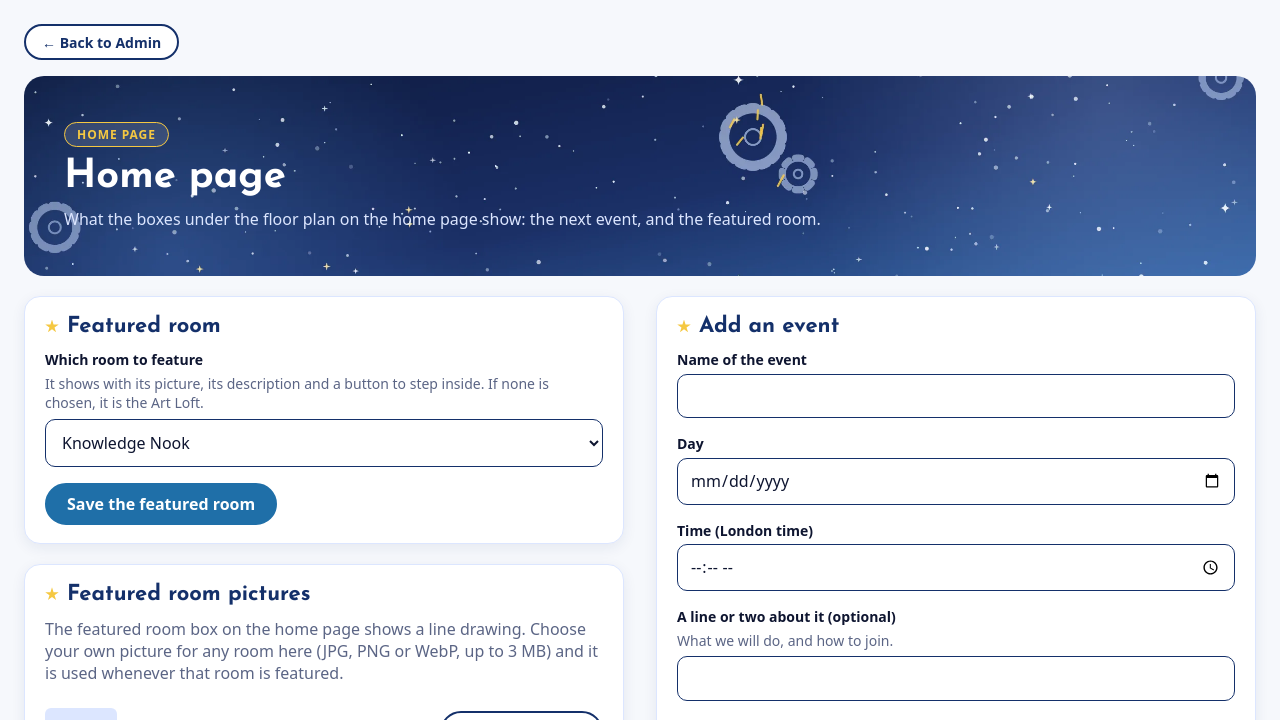
Scenario: saves the featured room, starting from the one now chosen
The width and height of the screenshot is (1280, 720).
Select "Explorer's Bay" in the dropdown labelled "Which room to feature". click: coordinates (324, 443)
box: [45, 419, 603, 467]
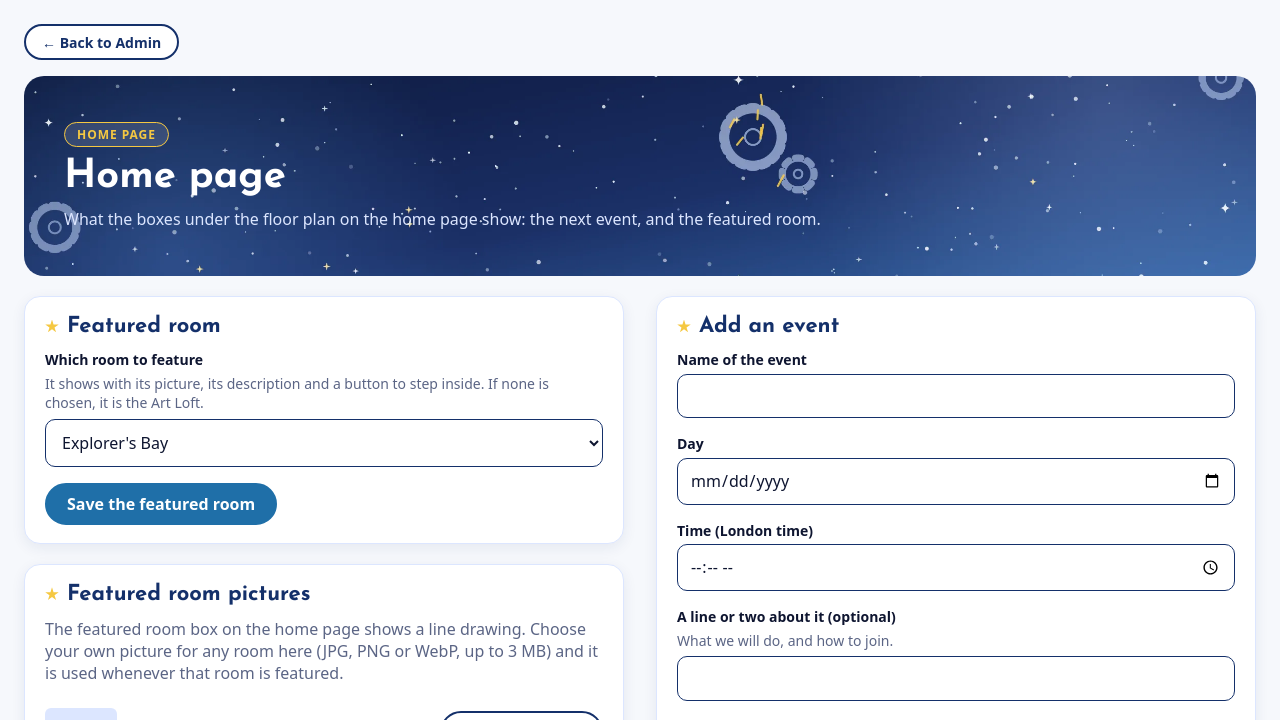
Click the button "Save the featured room". click: coordinates (161, 504)
box: [45, 483, 277, 525]
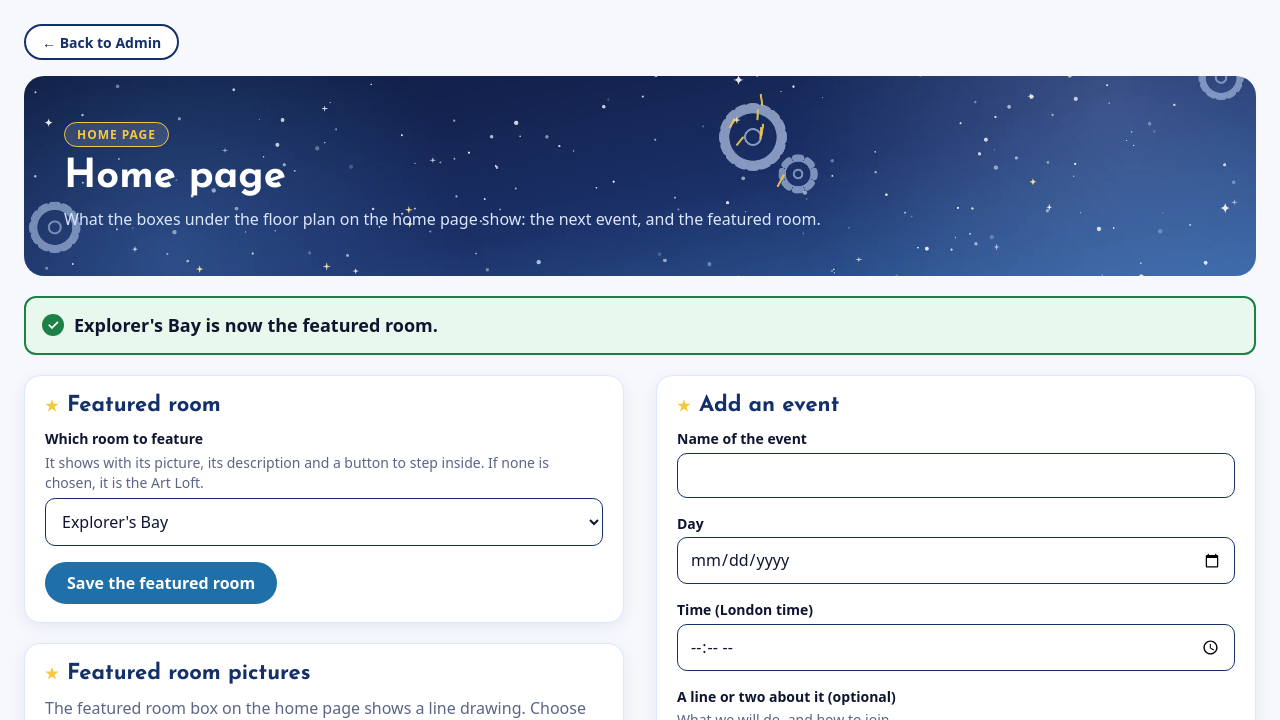
Expected: the text "Explorer's Bay is now the featured room." is shown, [74, 314, 438, 337]
